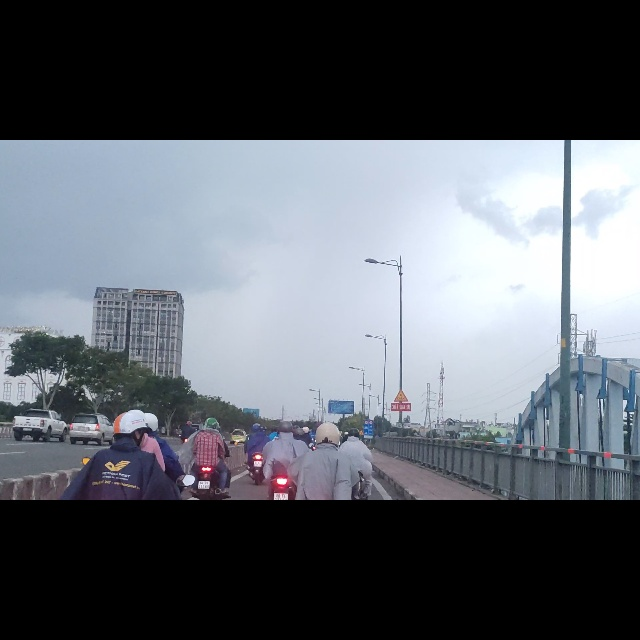bien_nguy_hiem: (393, 442, 409, 467)
